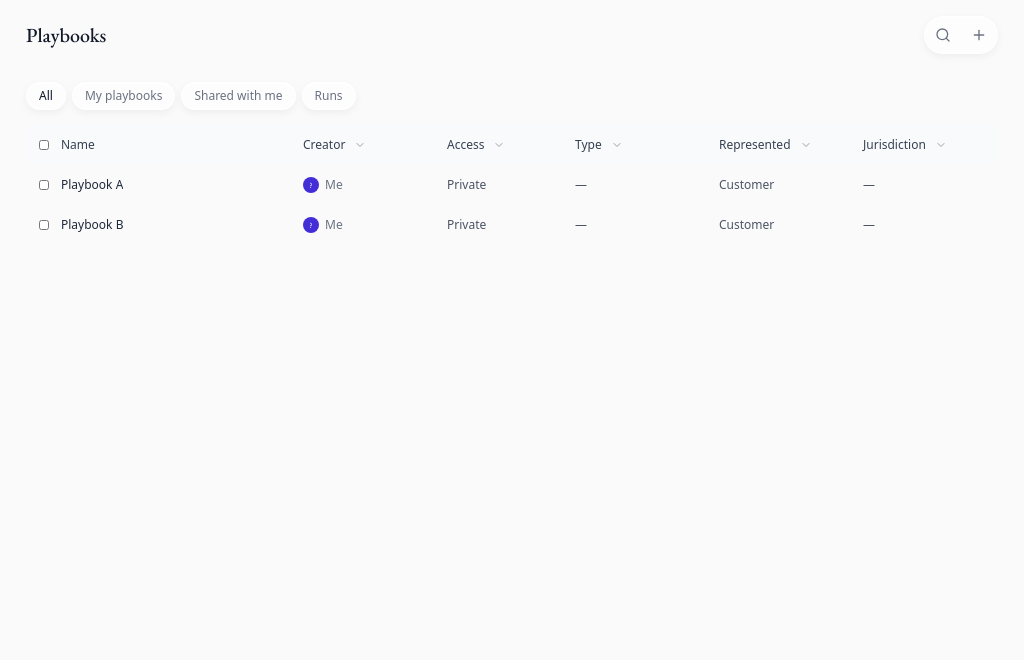
Test: playbooks page › reports a save refused because another tab is replacing the playbook
This screenshot has width=1024, height=660.
Click the link "Playbook A": (92, 184) x1=61 y1=176 x2=123 y2=193
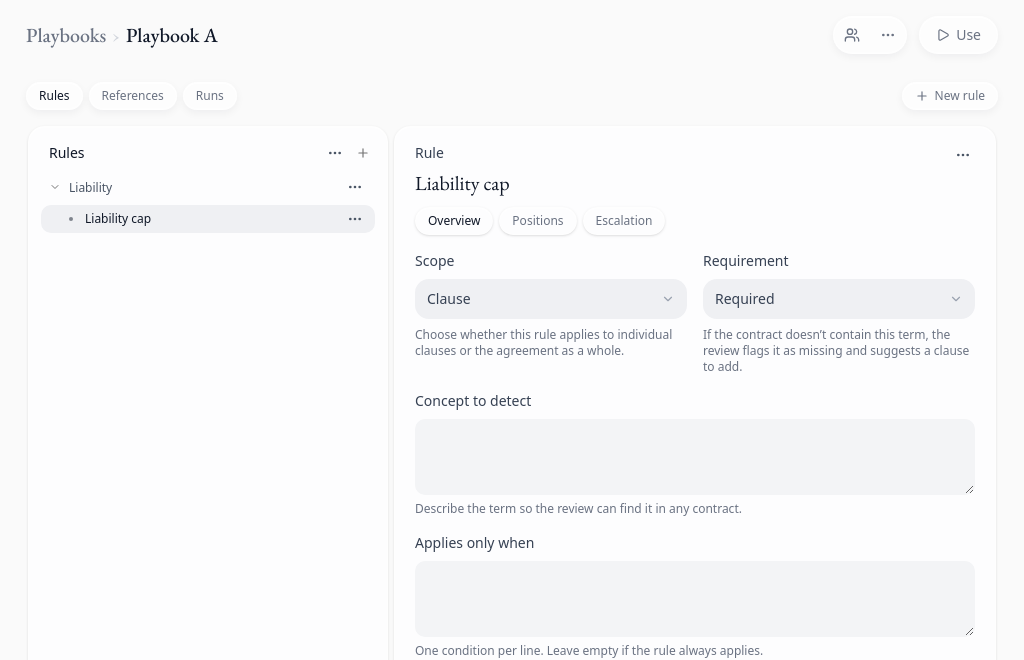
Click the button "New rule": (950, 96) x1=902 y1=82 x2=998 y2=110
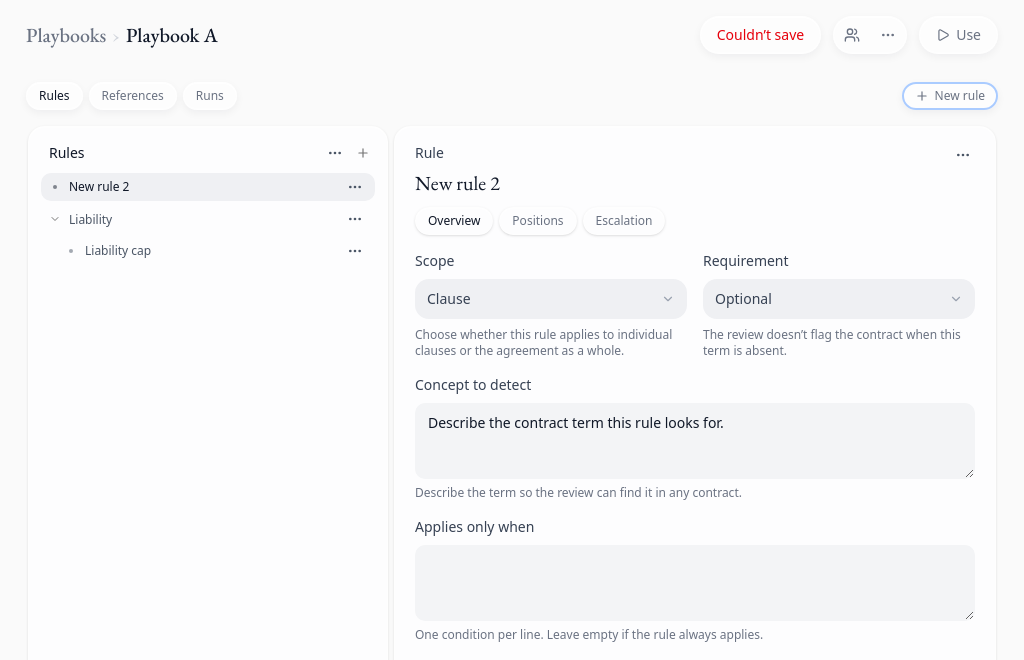
Expected: the text "Couldn’t save" is shown, x1=717 y1=25 x2=804 y2=44
